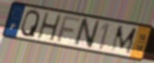1: (98, 22, 111, 51)
F: (55, 15, 81, 44)
H: (35, 11, 63, 43)
M: (109, 25, 139, 56)
N: (72, 17, 102, 50)
Q: (19, 9, 41, 39)
